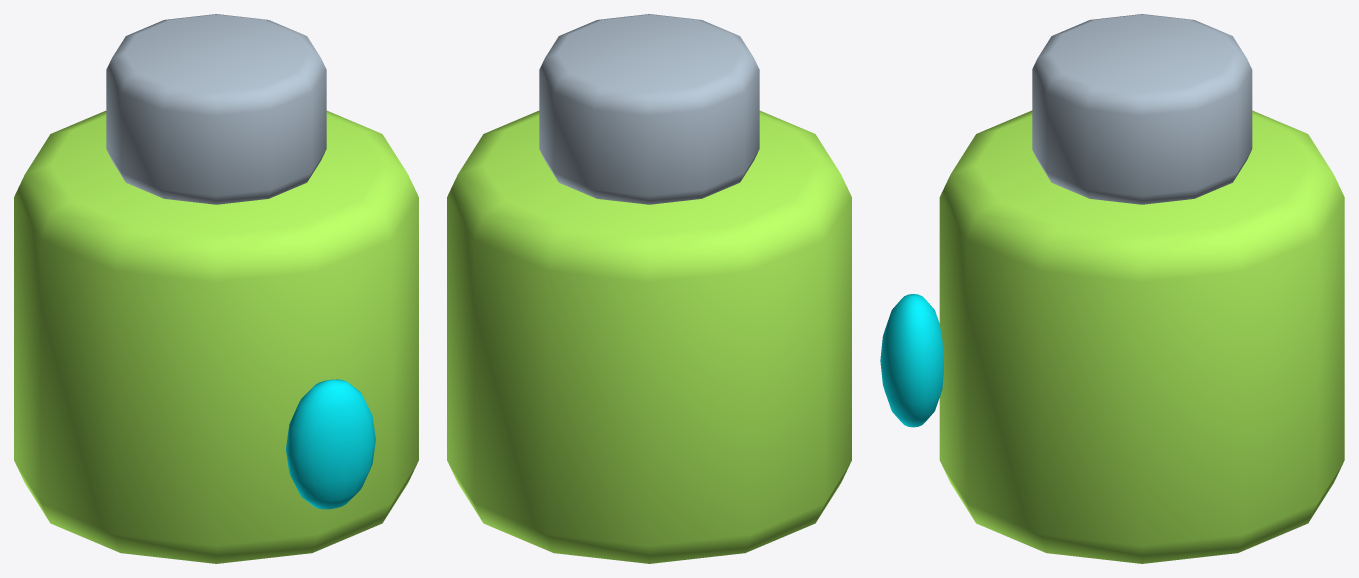
The model's file is Power_Solvent.fbx.
3 views of the same model, side by side, from view 1: azimuth 30°, elevation 25°; view 2: azimuth 150°, elevation 25°; view 3: azimuth 270°, elevation 25° (orthographic).
Visible parts, largest first — view 1: Solvent_Bottle, Solvent_Neck, Solvent_Drop; view 2: Solvent_Bottle, Solvent_Neck; view 3: Solvent_Bottle, Solvent_Neck, Solvent_Drop.
Part boxes in pixels (x1,y1,x2,y2): Solvent_Bottle: (14,110,418,563); Solvent_Neck: (106,14,326,204); Solvent_Drop: (286,379,375,509); Solvent_Bottle: (447,110,851,563); Solvent_Neck: (539,14,759,204); Solvent_Bottle: (939,110,1344,563); Solvent_Neck: (1032,14,1252,204); Solvent_Drop: (880,294,943,427).
Bounding box in the file's own units: 0.92 × 1.1 × 1.06.
